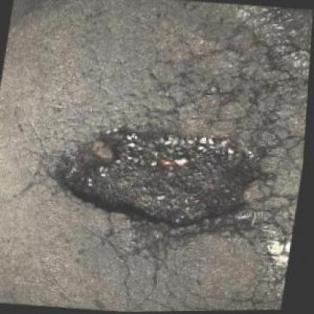Hueco: (42, 111, 271, 247)
